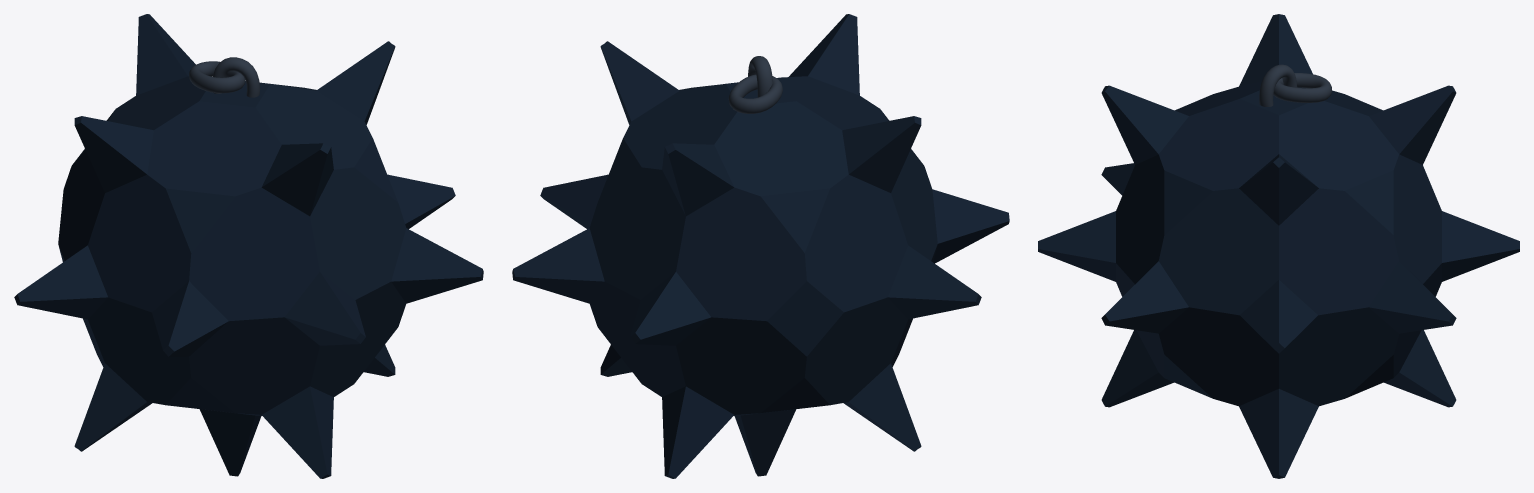
File: thorns.fbx
3 renders of one model, left to right at view 1: azimuth 30°, elevation 25°; view 2: azimuth 150°, elevation 25°; view 3: azimuth 270°, elevation 25°, orthographic. The views are drawn at different scales.
Visible parts, largest first — view 1: Cube.030; view 2: Cube.030; view 3: Cube.030.
Part boxes in pixels (x1,y1,x2,y2): Cube.030: (14, 14, 483, 478); Cube.030: (512, 14, 1009, 478); Cube.030: (1038, 14, 1519, 478).
Bounding box in the file's own units: 228 × 208 × 228.
